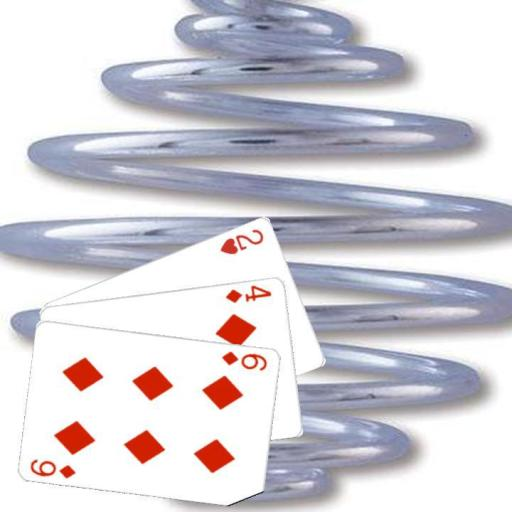2H: (217, 225, 265, 256)
4D: (223, 282, 274, 304)
6D: (219, 348, 270, 372), (28, 456, 78, 480)
